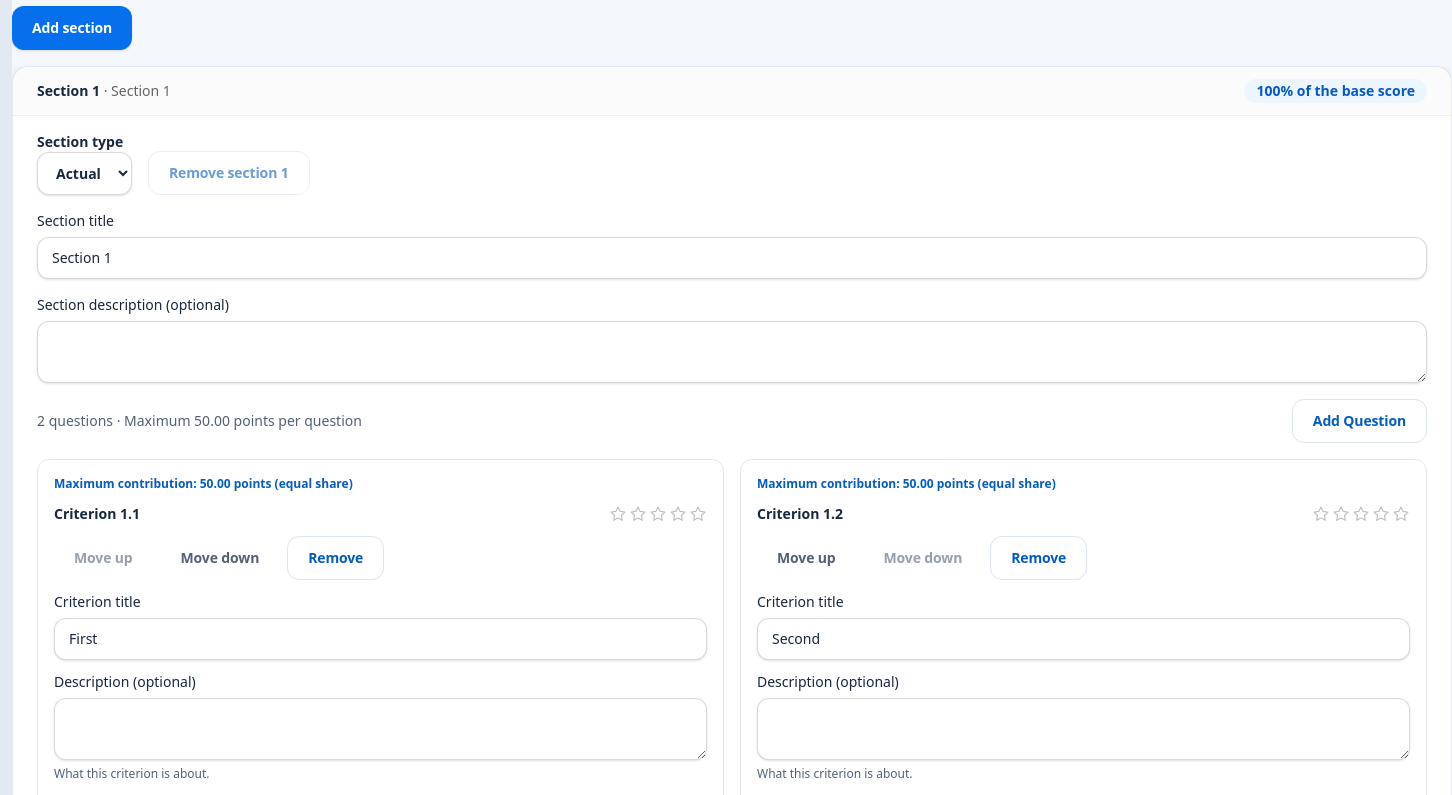
Test: adds and removes questions, keeps a minimum of one and recalculates equal contributions
(page scrolled)
Click the button "Add Question". click: click(1359, 421)
box: [1292,399,1427,443]
(page scrolled)
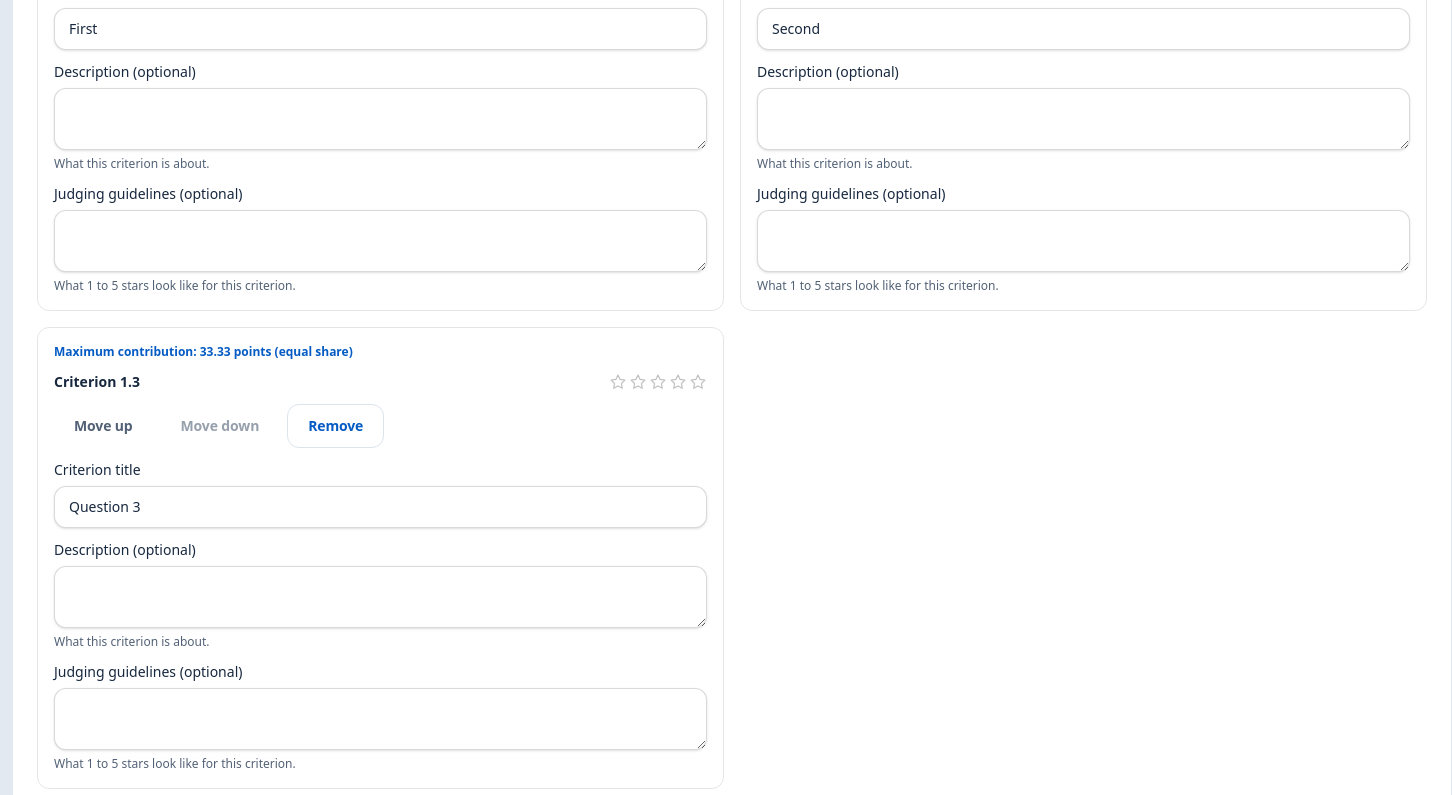
Expected: the number of fields labelled "Criterion title" is 3, [54,8,707,50]; [757,8,1410,50]; [54,486,707,528]
Expected: the text "Maximum contribution: 33.33 points (equal share)" is shown 3 times
Click the button with aria-label "Remove question 1.3". click: click(336, 426)
box: [287,404,384,448]
(page scrolled)
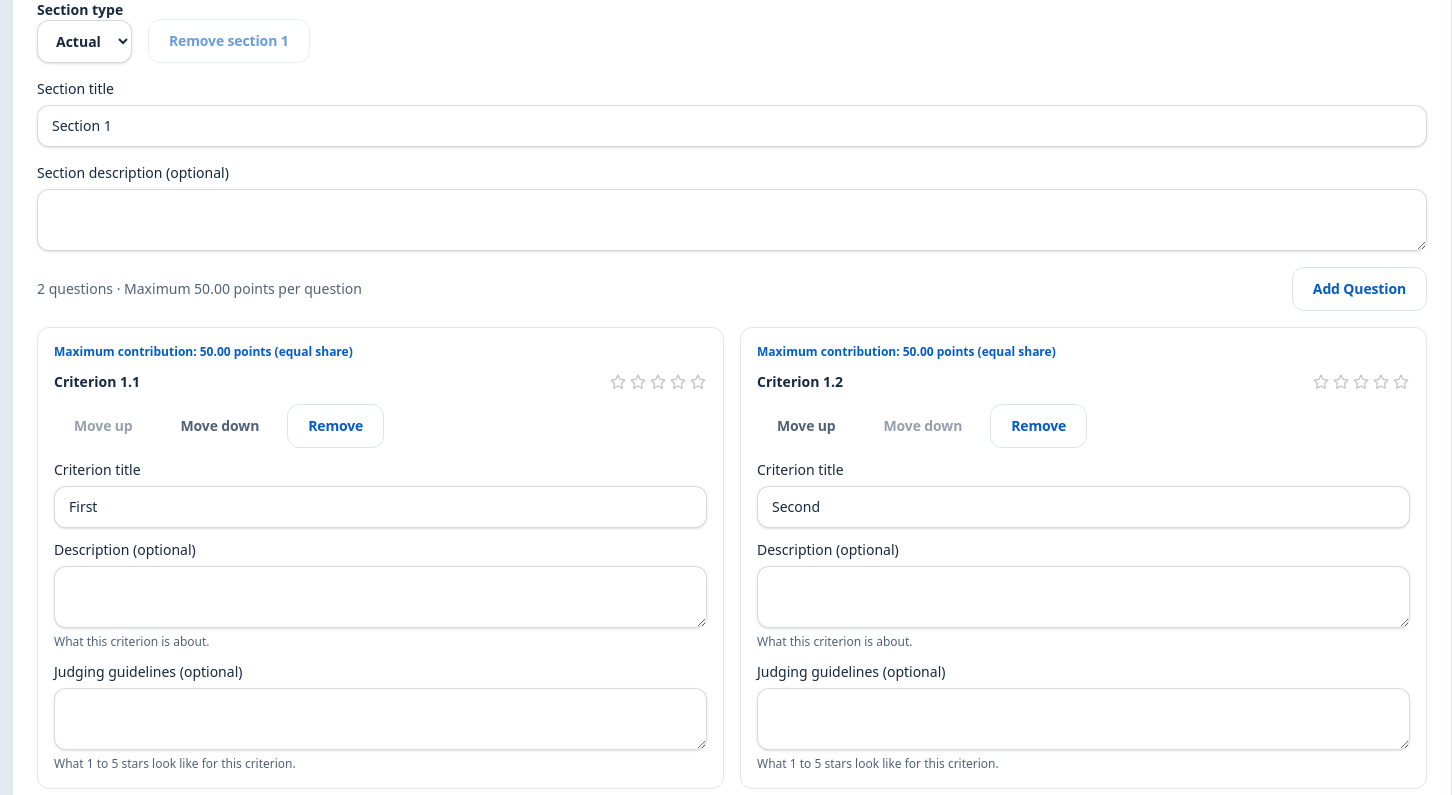
Click the button with aria-label "Remove question 1.2". click: click(1039, 426)
box: [990,404,1087,448]
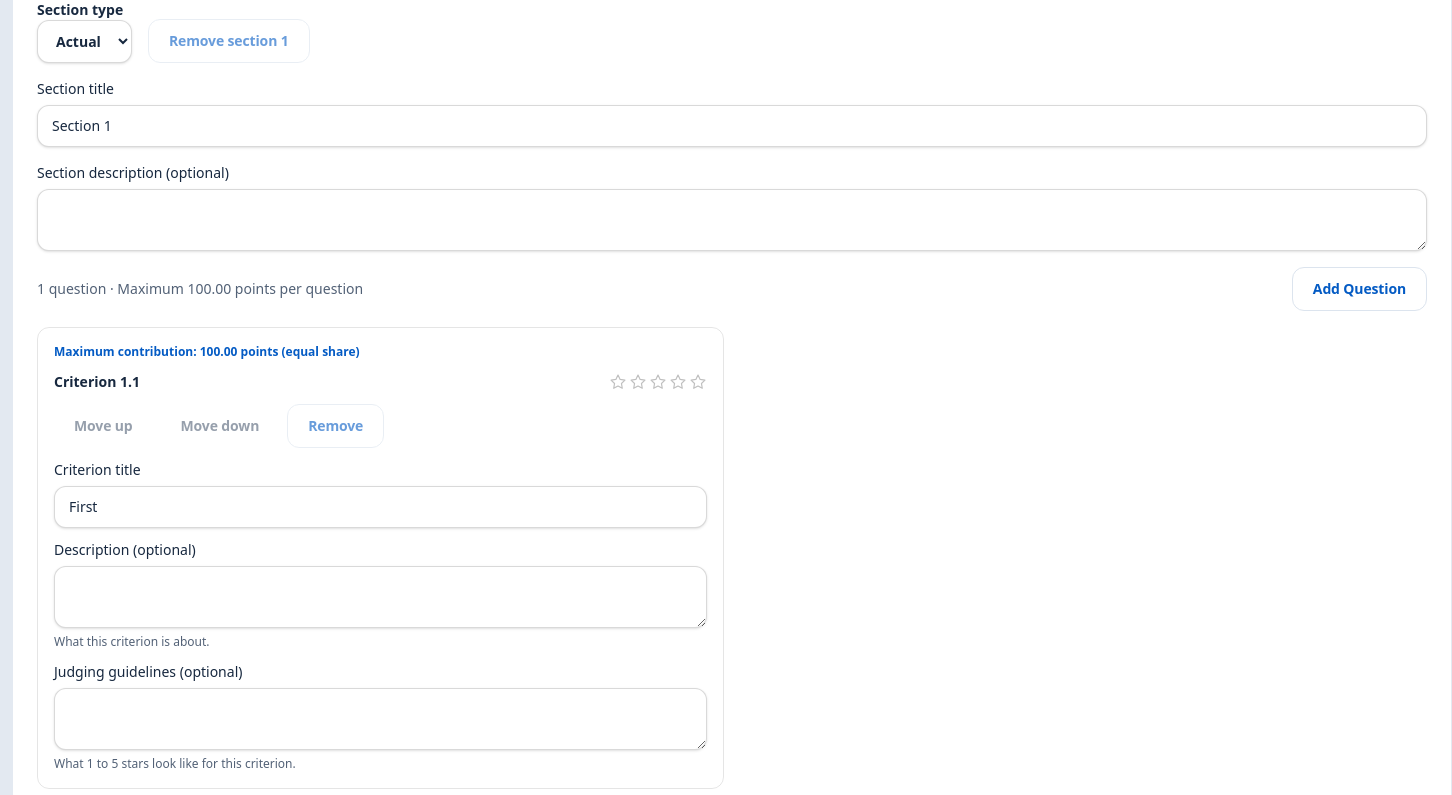
Expected: the button with aria-label "Remove question 1.1" is disabled, [287,404,384,448]
